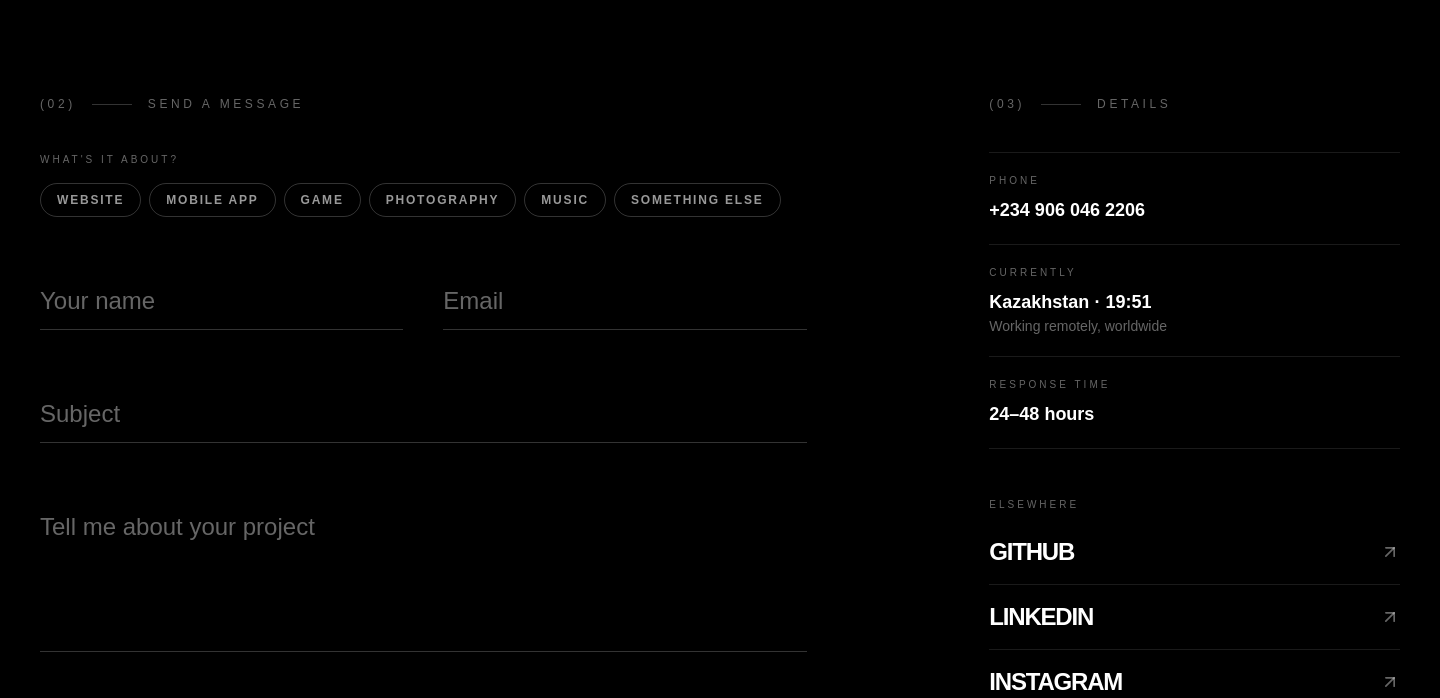
Test: Contact form › shows the server's message and field errors when sending fails
(page scrolled)
Type "Ada Lovelace" into the field labelled "Your name" at (222, 294), box [40,257,403,330]
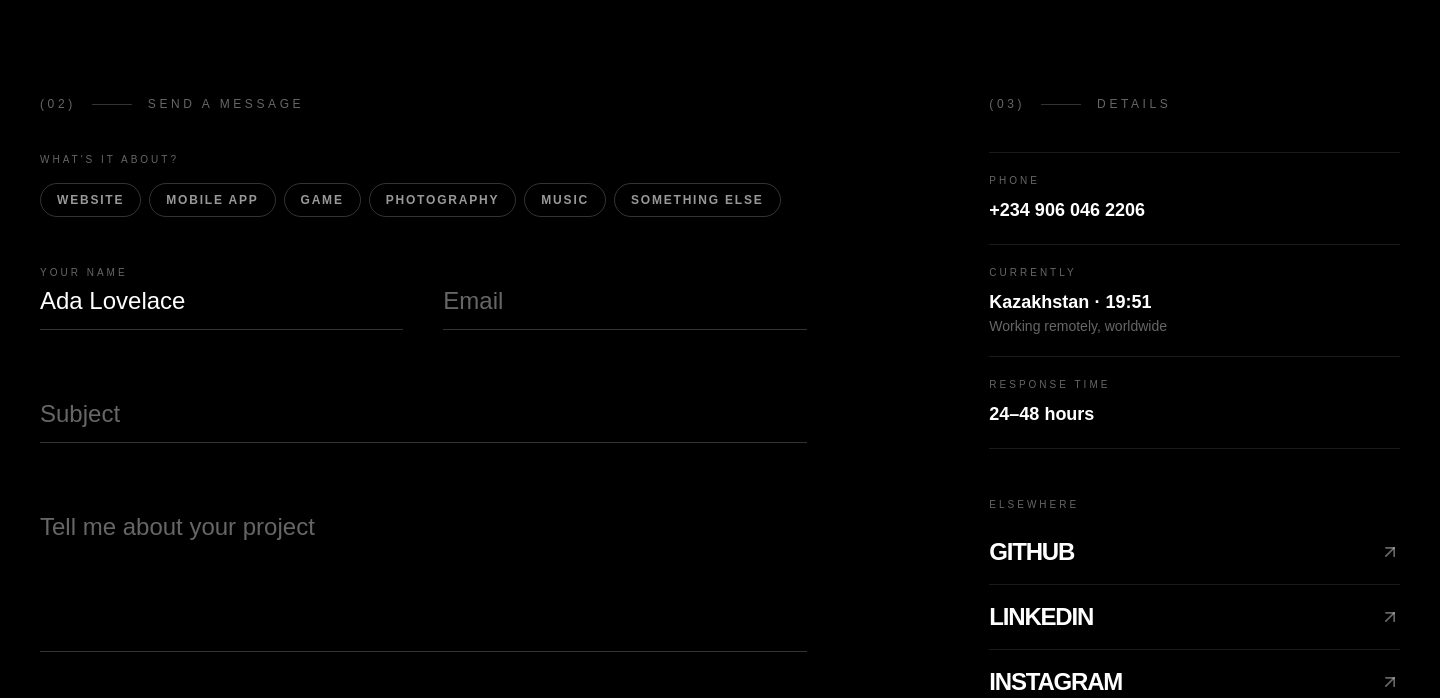
Type "ada@example.com" into the field labelled "Email" at (625, 294), box [443,257,807,330]
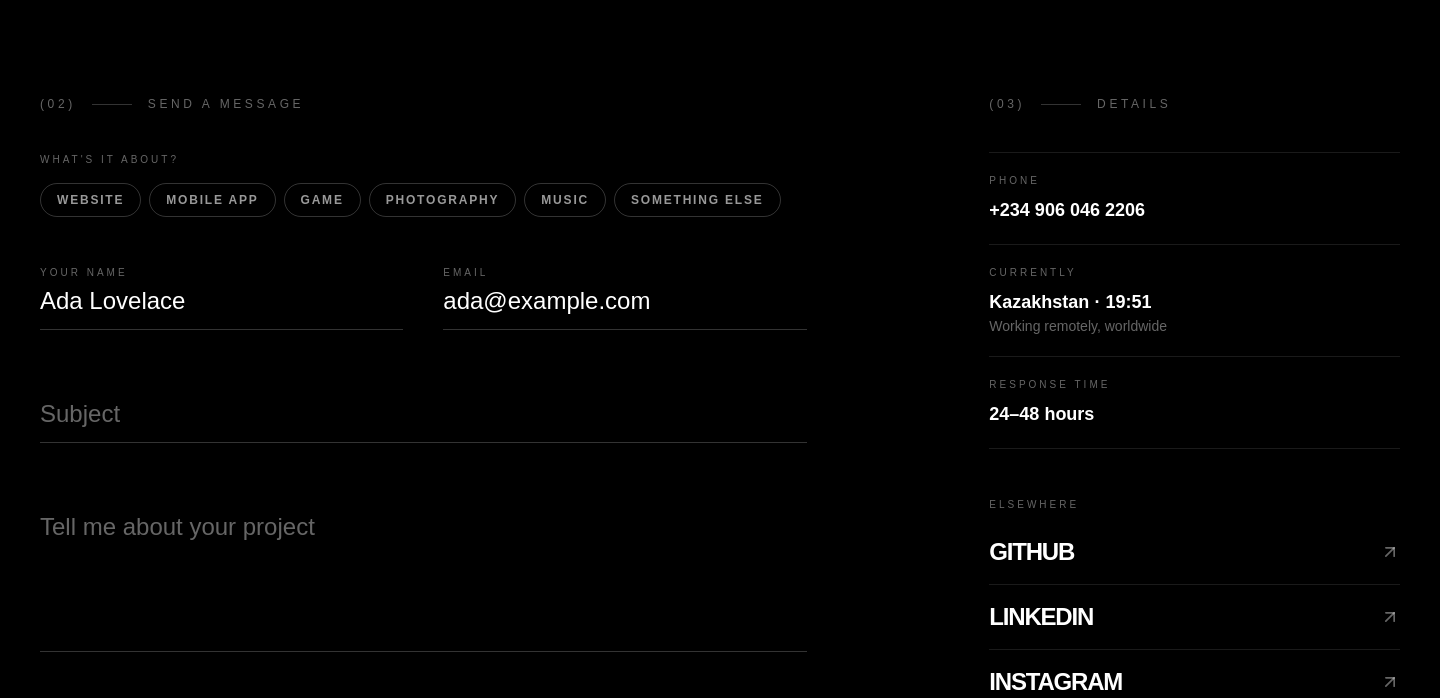
Type "New website" into the field labelled "Subject" at (423, 406), box [40,370,807,443]
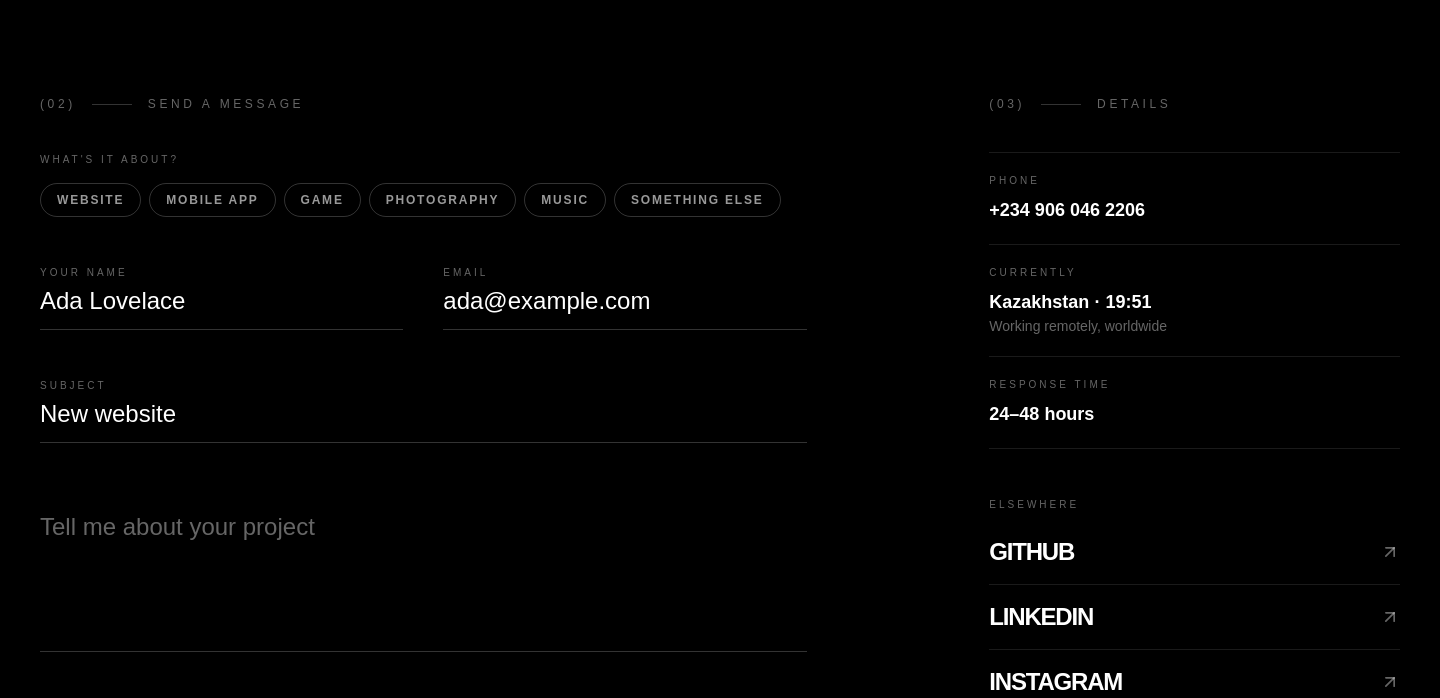
Type "I'd like to build a portfolio site." into the text box labelled "Tell me about your project" at (423, 568), box [40,483,807,652]
(page scrolled)
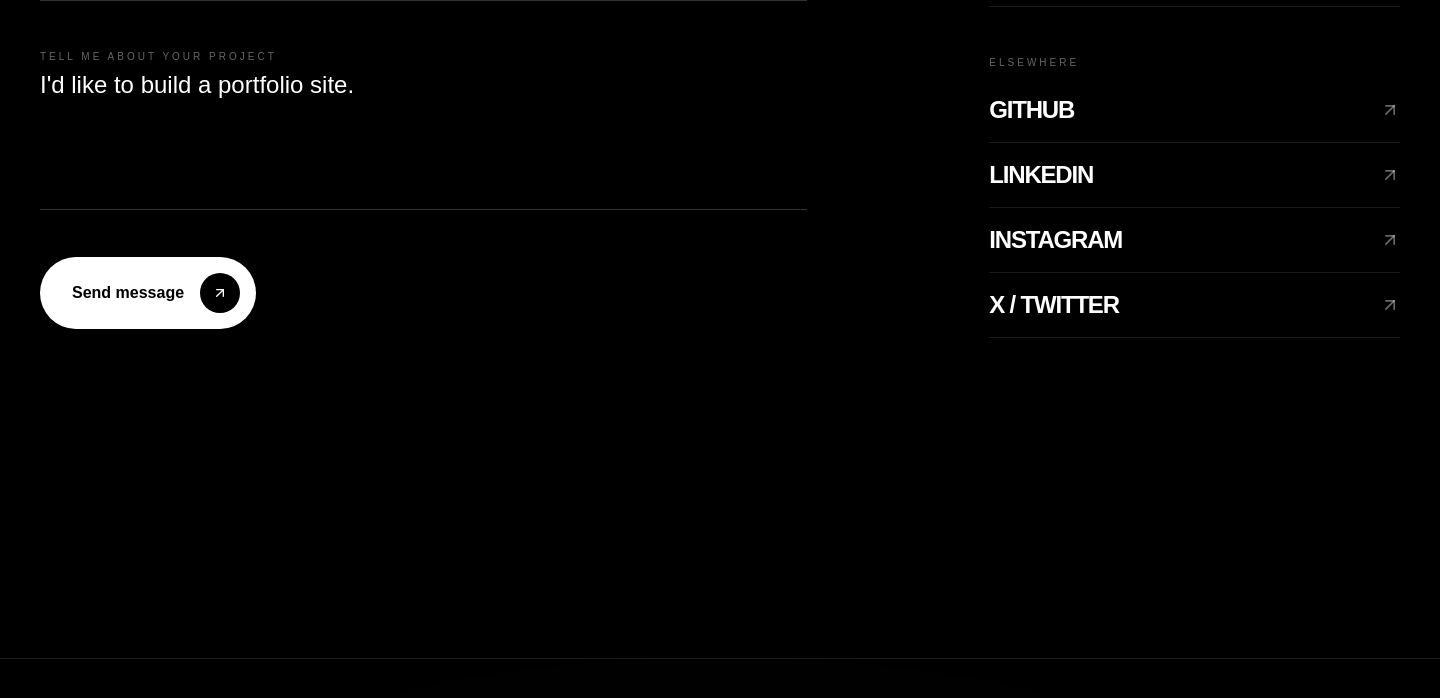
Click the button "Send message" at (148, 293), box [40,257,256,329]
(page scrolled)
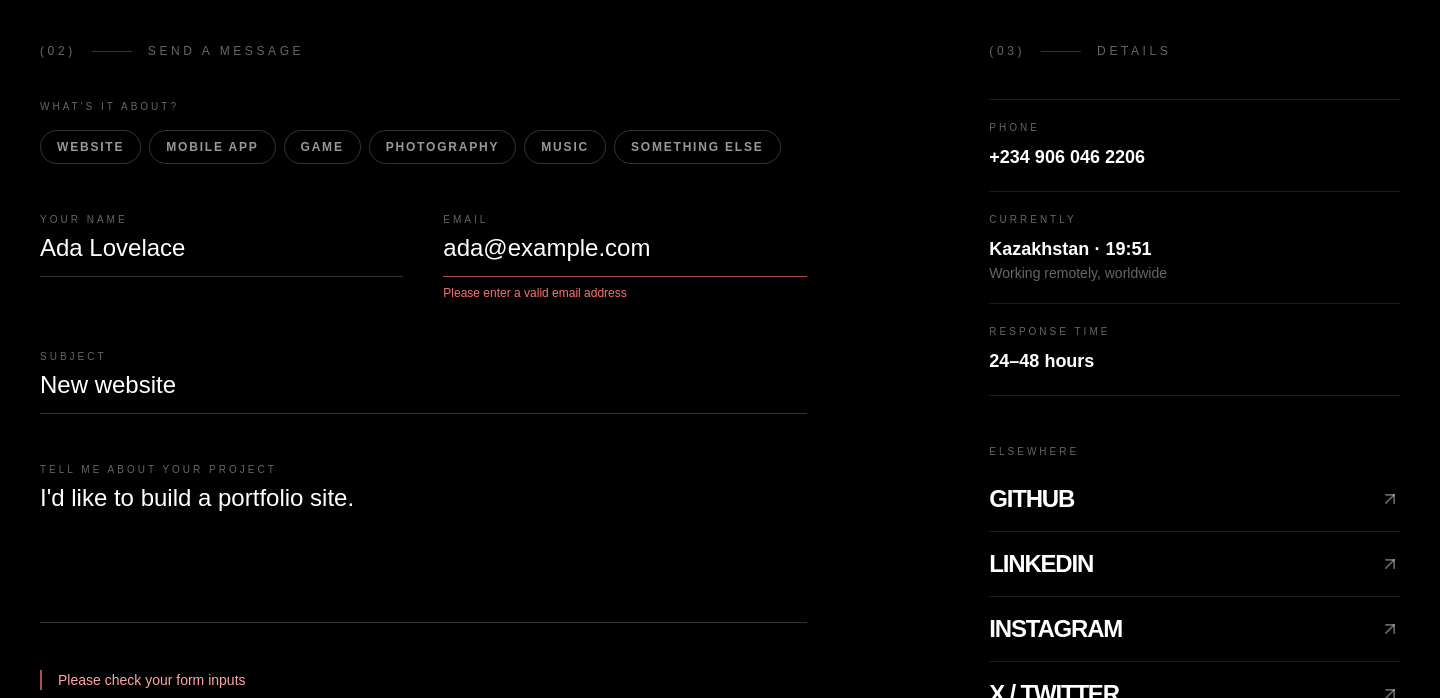
Expected: the message reads "Please check your form inputs", [58,672,246,688]
Expected: the text "Please enter a valid email address" is shown, [443,286,627,300]
